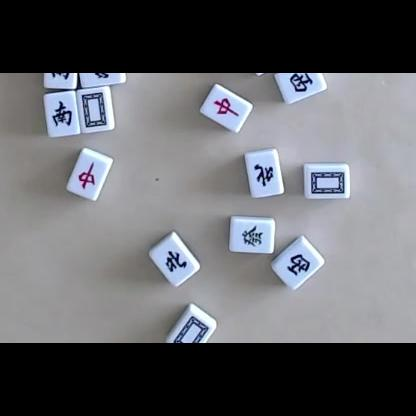2z: (52, 100, 73, 126), (50, 73, 70, 79)
3z: (287, 253, 311, 277), (288, 73, 313, 92)
4z: (164, 249, 187, 273), (253, 163, 275, 188), (89, 73, 112, 79)
5z: (173, 315, 208, 343), (81, 92, 107, 128), (310, 171, 345, 195)
6z: (241, 224, 264, 248)
7z: (213, 97, 239, 117), (78, 162, 96, 189)
